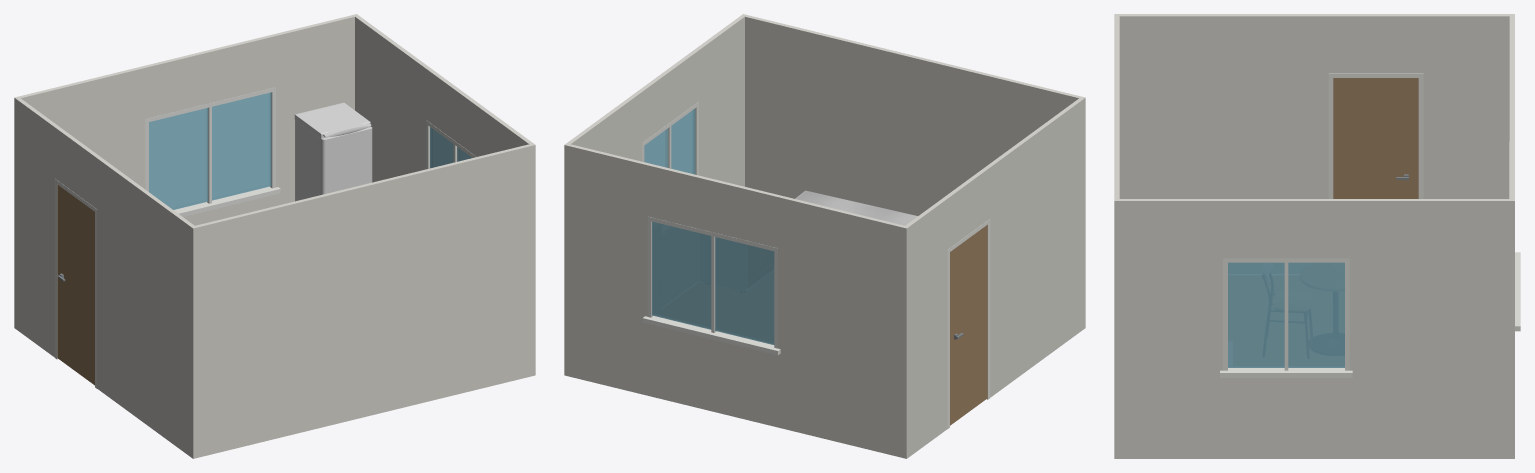
File: scenesmith.glb
3 views of the same model, side by side, from view 1: azimuth 30°, elevation 25°; view 2: azimuth 150°, elevation 25°; view 3: azimuth 270°, elevation 25° (orthographic). The views are drawn at different scales.
Visible parts, largest first — view 1: scene_154_kitchen_south_wall, scene_154_kitchen_west_wall, scene_154_kitchen_north_wall, scene_154_kitchen_east_wall, scene_154_kitchen_north_wall Window 0 | glazing, scene_154_kitchen_west_wall Door 0 | wood leaf, P_1d9b609d3928cca5.001, scene_154_kitchen_north_wall Window 0 | jamb, scene_154_kitchen_west_wall Door 0 | jamb, scene_154_kitchen_east_wall Window 0 | glazing; view 2: scene_154_kitchen_north_wall, scene_154_kitchen_south_wall, scene_154_kitchen_west_wall, scene_154_kitchen_east_wall, scene_154_kitchen_north_wall Window 0 | glazing, scene_154_kitchen_west_wall Door 0 | wood leaf, scene_154_kitchen_north_wall Window 0 | jamb, scene_154_kitchen_east_wall Window 0 | glazing, scene_154_kitchen_west_wall Door 0 | jamb, furniture_group, scene_154_kitchen_east_wall Window 0 | jamb; view 3: scene_154_kitchen_east_wall, scene_154_kitchen_west_wall, scene_154_kitchen_east_wall Window 0 | glazing, scene_154_kitchen_west_wall Door 0 | wood leaf, scene_154_kitchen_east_wall Window 0 | jamb, scene_154_kitchen_north_wall, scene_154_kitchen_south_wall, scene_154_kitchen_west_wall Door 0 | jamb, scene_154_kitchen_north_wall Window 0 | jamb.
Boxes of the visible parts, box(x1,y1,x2,y2) form: scene_154_kitchen_south_wall: box(191, 143, 535, 458); scene_154_kitchen_west_wall: box(16, 98, 197, 458); scene_154_kitchen_north_wall: box(14, 14, 358, 329); scene_154_kitchen_east_wall: box(355, 16, 535, 375); scene_154_kitchen_north_wall Window 0 | glazing: box(149, 92, 271, 209); scene_154_kitchen_west_wall Door 0 | wood leaf: box(57, 184, 94, 385); P_1d9b609d3928cca5.001: box(294, 102, 372, 201); scene_154_kitchen_north_wall Window 0 | jamb: box(145, 87, 280, 216); scene_154_kitchen_west_wall Door 0 | jamb: box(55, 179, 97, 388); scene_154_kitchen_east_wall Window 0 | glazing: box(430, 127, 471, 168); scene_154_kitchen_north_wall: box(564, 143, 909, 458); scene_154_kitchen_south_wall: box(741, 14, 1085, 215); scene_154_kitchen_west_wall: box(902, 98, 1085, 458); scene_154_kitchen_east_wall: box(564, 16, 744, 376); scene_154_kitchen_north_wall Window 0 | glazing: box(652, 221, 774, 344); scene_154_kitchen_west_wall Door 0 | wood leaf: box(950, 225, 987, 425); scene_154_kitchen_north_wall Window 0 | jamb: box(642, 216, 780, 355); scene_154_kitchen_east_wall Window 0 | glazing: box(644, 108, 695, 174); scene_154_kitchen_west_wall Door 0 | jamb: box(947, 219, 990, 428); furniture_group: box(795, 190, 917, 225); scene_154_kitchen_east_wall Window 0 | jamb: box(642, 102, 698, 175); scene_154_kitchen_east_wall: box(1119, 199, 1509, 458); scene_154_kitchen_west_wall: box(1119, 14, 1509, 198); scene_154_kitchen_east_wall Window 0 | glazing: box(1228, 262, 1344, 367); scene_154_kitchen_west_wall Door 0 | wood leaf: box(1333, 78, 1418, 198); scene_154_kitchen_east_wall Window 0 | jamb: box(1220, 258, 1352, 377); scene_154_kitchen_north_wall: box(1509, 14, 1514, 458); scene_154_kitchen_south_wall: box(1114, 14, 1119, 458); scene_154_kitchen_west_wall Door 0 | jamb: box(1328, 73, 1423, 198); scene_154_kitchen_north_wall Window 0 | jamb: box(1509, 142, 1520, 331).
Bounding box in the file's own units: 4.3 × 2.71 × 3.85.
Materials: 21 (5 with a texture image).
